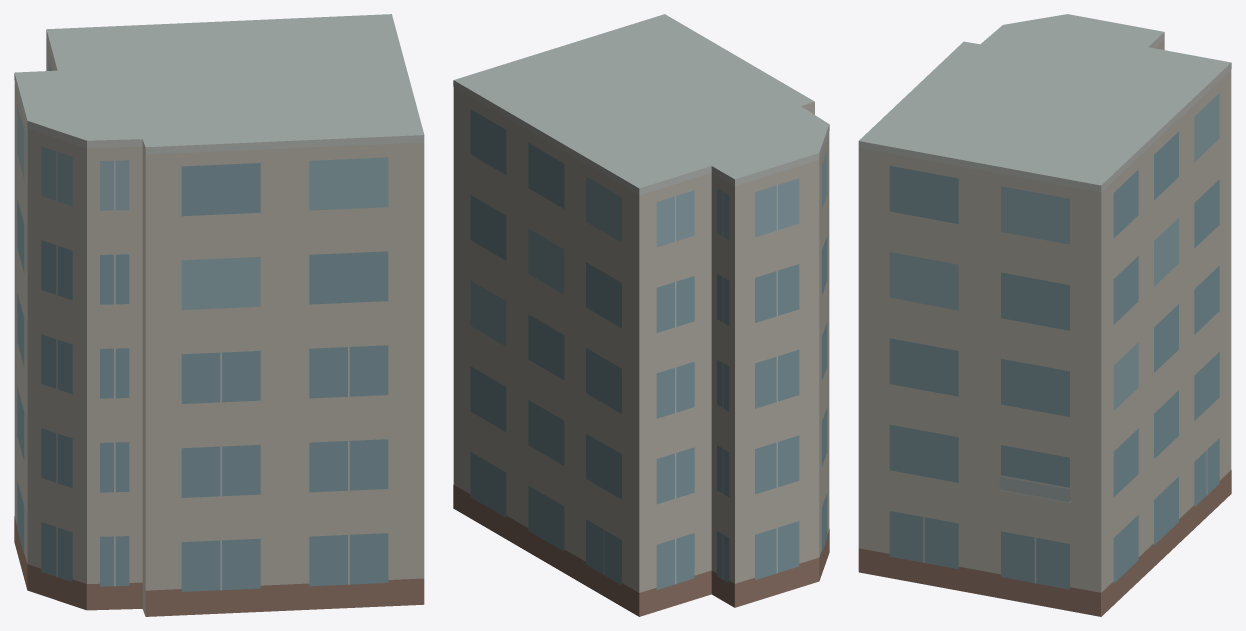
Rendered from survey-upis-32529981.glb.
3 views of the same model, side by side, from view 1: azimuth 30°, elevation 25°; view 2: azimuth 150°, elevation 25°; view 3: azimuth 270°, elevation 25° (orthographic). The views are drawn at different scales.
Visible parts, largest first — view 1: survey-upis-32529981.tmp; view 2: survey-upis-32529981.tmp; view 3: survey-upis-32529981.tmp.
Part boxes in pixels (bbox=[...]): survey-upis-32529981.tmp: bbox=[14, 14, 424, 616]; survey-upis-32529981.tmp: bbox=[453, 14, 829, 616]; survey-upis-32529981.tmp: bbox=[858, 14, 1231, 616].
Bounding box in the file's own units: 13.1 × 15.35 × 12.03.
